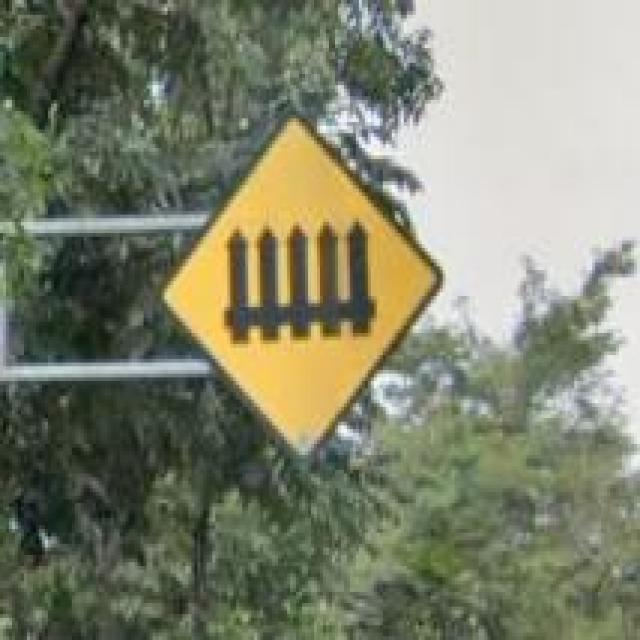traffic sign: (174, 119, 434, 448)
